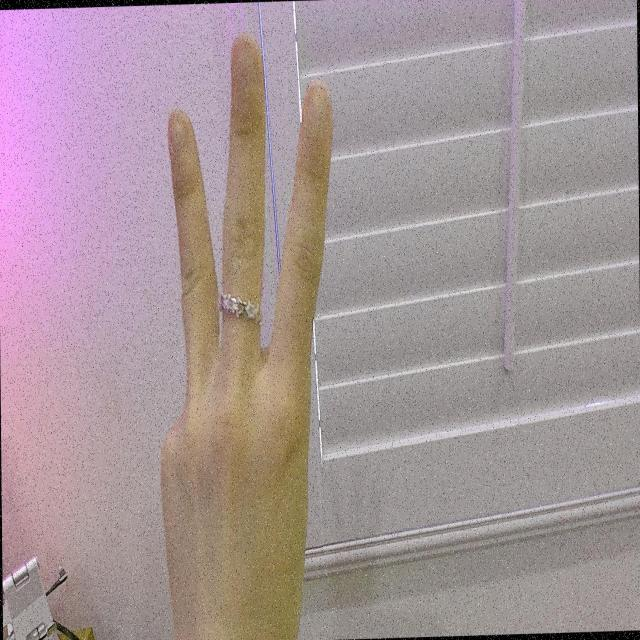W: (154, 26, 340, 640)
